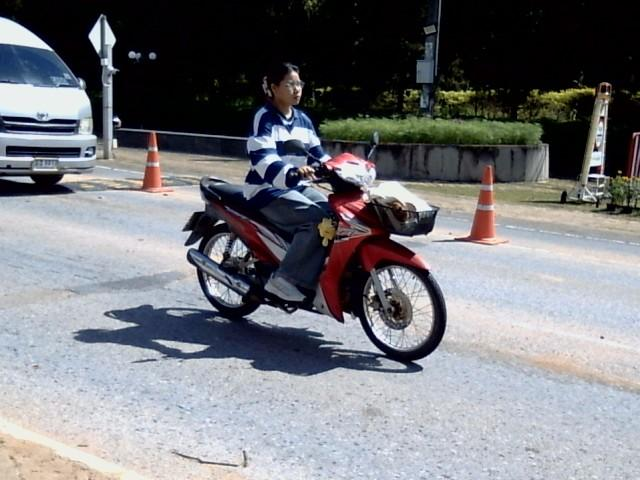motor: (183, 153, 445, 358)
no-helmet: (262, 58, 304, 110)
person: (243, 62, 329, 301)
